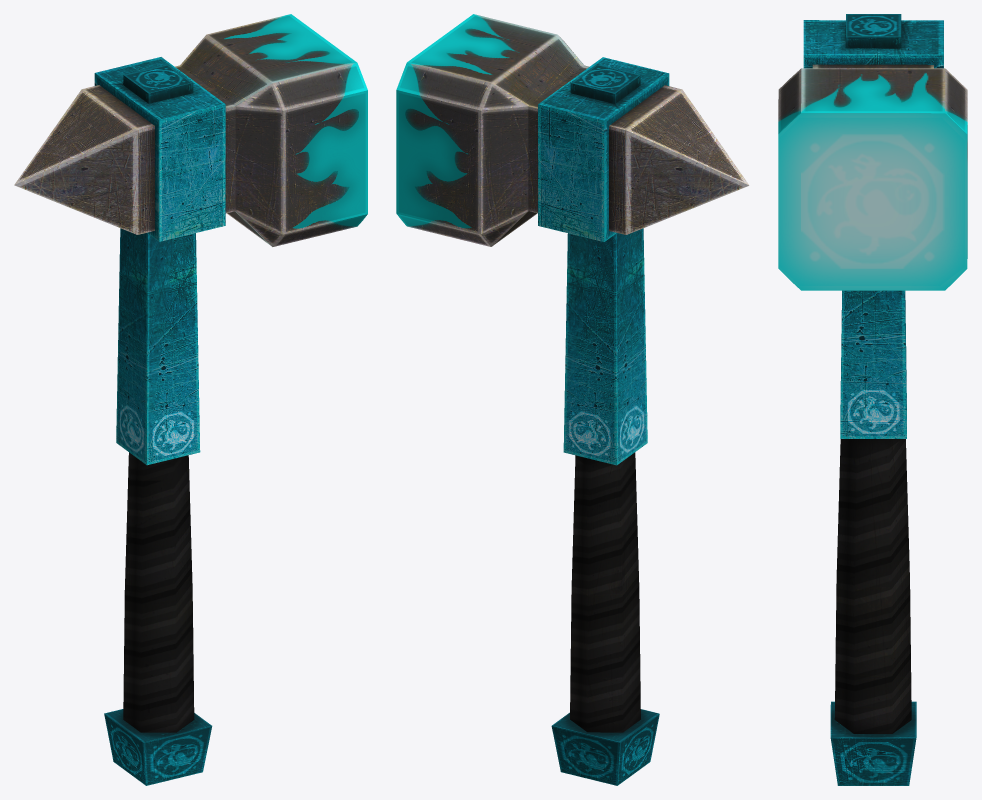
Rendered from hammer01_magic.FBX.
The picture shows the model from 3 angles, left to right: view 1: azimuth 30°, elevation 25°; view 2: azimuth 150°, elevation 25°; view 3: azimuth 270°, elevation 25°; orthographic projection. The views are drawn at different scales.
Parts seen in each view (by area): view 1: hammer01; view 2: hammer01; view 3: hammer01.
Boxes of the visible parts, box(x1,y1,x2,y2) form: hammer01: box(14, 14, 367, 785); hammer01: box(396, 14, 749, 785); hammer01: box(778, 14, 967, 785).
Bounding box in the file's own units: 0.4364 × 0.9256 × 0.2131.
